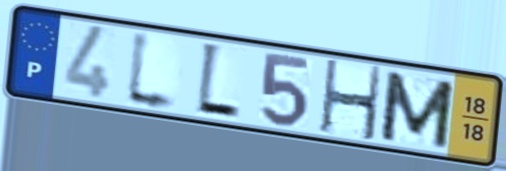4: (62, 22, 116, 105)
5: (255, 50, 315, 130)
H: (317, 57, 384, 145)
L: (122, 26, 181, 118), (193, 38, 243, 124)
M: (376, 68, 458, 152)
